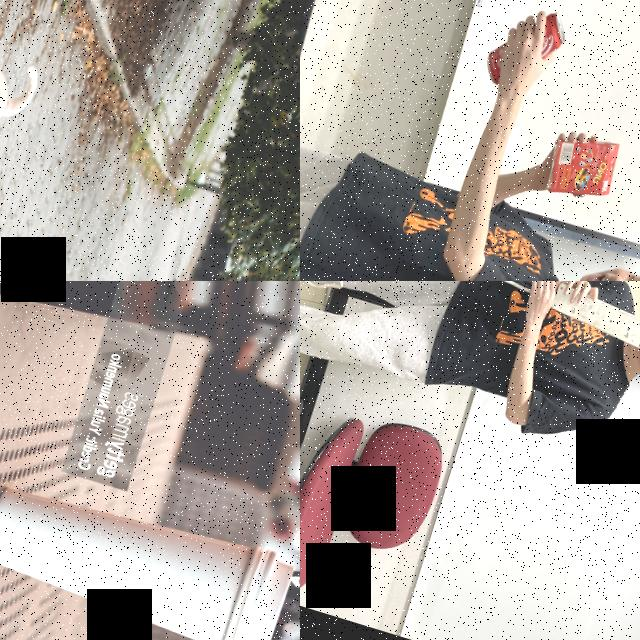can: (477, 0, 572, 101)
cup: (0, 464, 298, 640)
